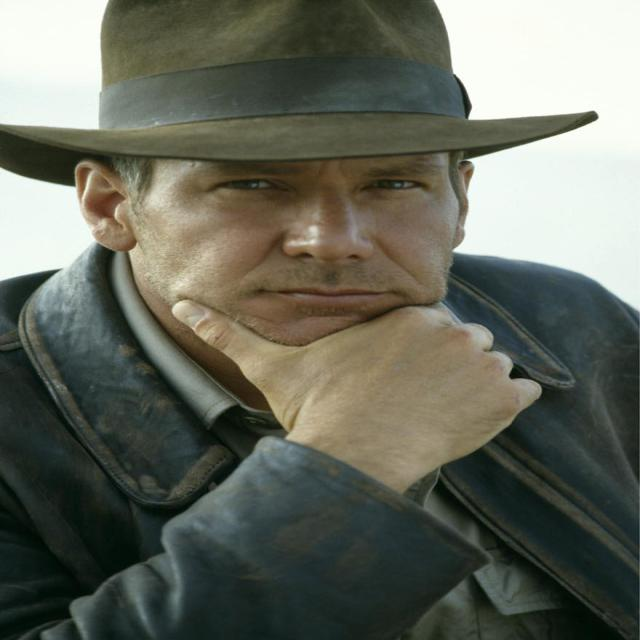no-earmuff: (54, 146, 158, 266), (436, 150, 504, 260)
